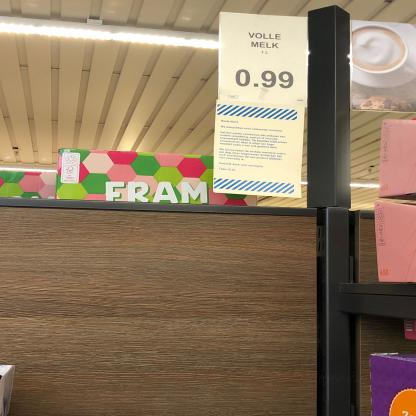prtg: (218, 12, 309, 108)
